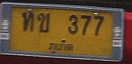txt02: (36, 11, 50, 33)
txt18: (20, 10, 34, 32)
